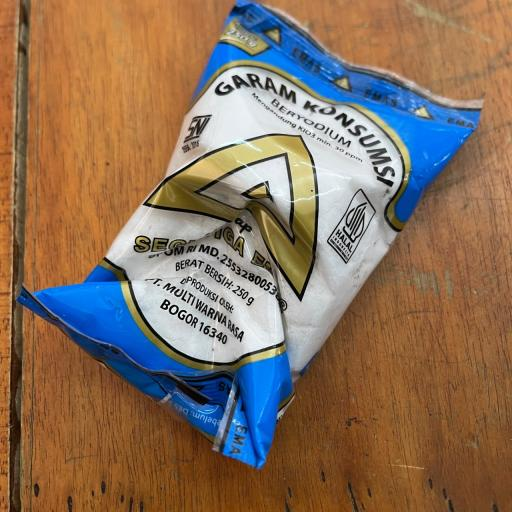Garam Segitiga Emas: (18, 11, 470, 478)
